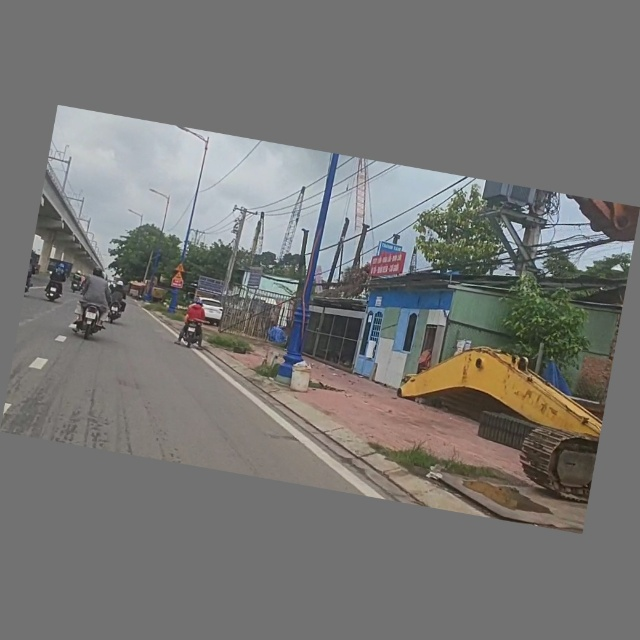W.203c: (174, 261, 187, 273)
W.245a: (172, 272, 187, 282)
